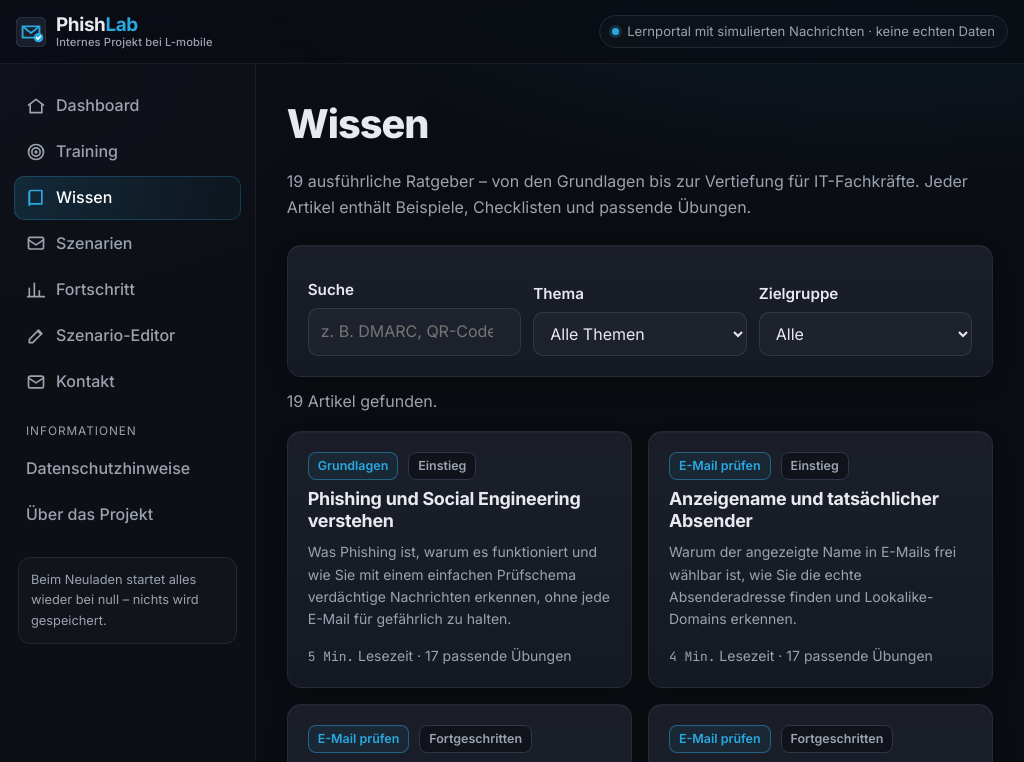
it: Wissen und Bibliothek › Suche filtert Artikel und zeigt leeren Zustand
The width and height of the screenshot is (1024, 762).
Step 1. Type "DMARC" into the search field labelled "Suche" → (414, 332), box [308,308,521,356]
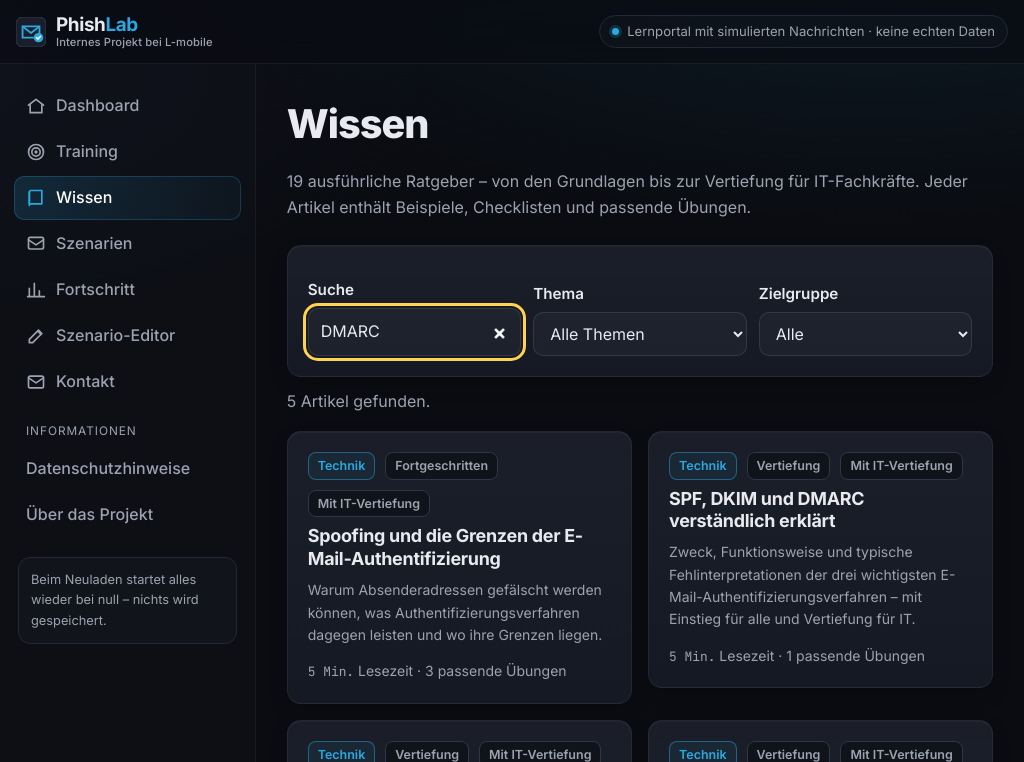
Expected: the link "SPF, DKIM und DMARC" is shown, [648,430,993,704]
Step 2. Replace the text in the search field labelled "Suche" with "xyzunbekannt" → (414, 332), box [308,308,521,356]
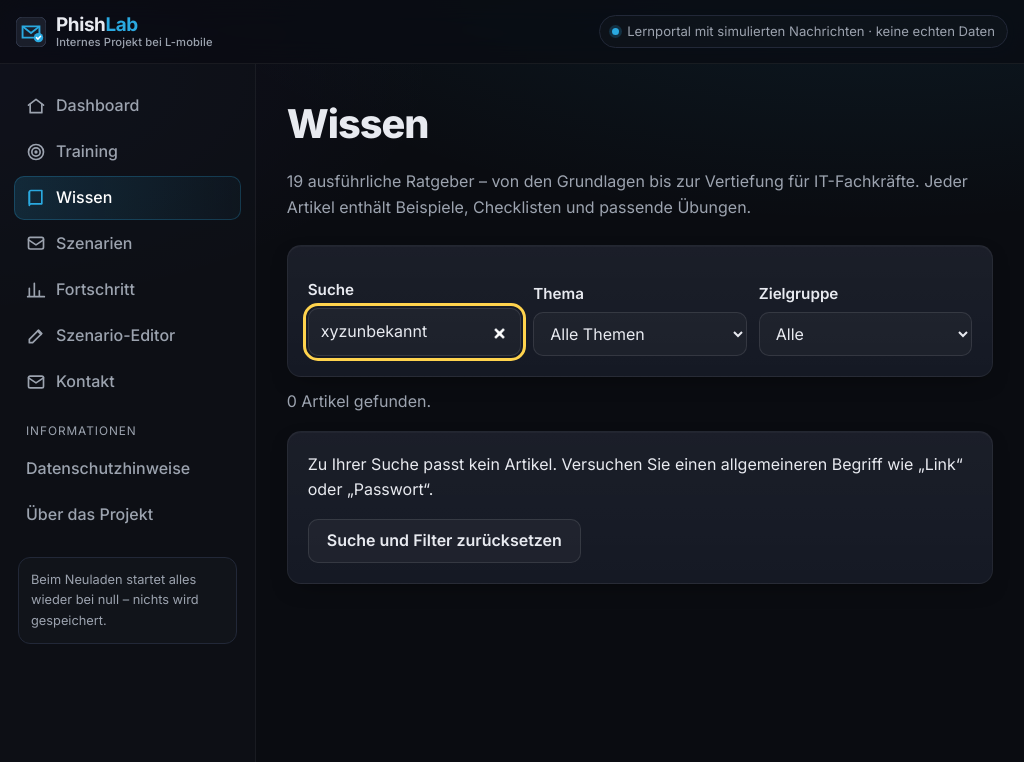
Expected: the text "passt kein Artikel" is shown, [308,454,963,499]
